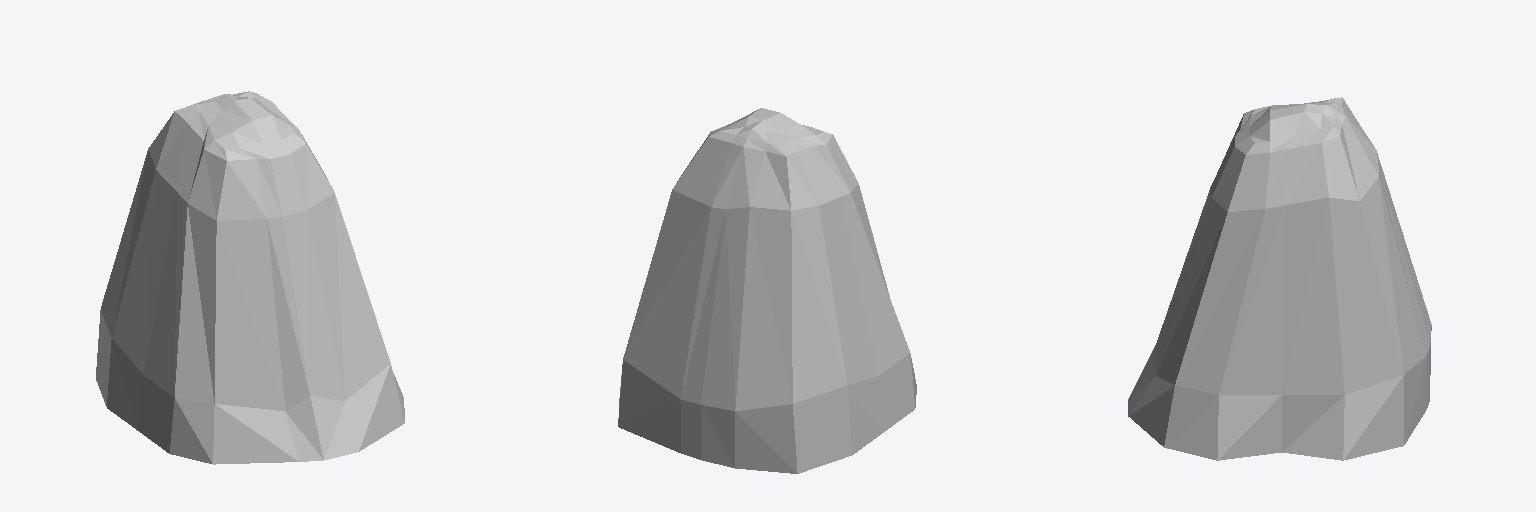
File: Rock4.obj
3 views of the same model, side by side, from view 1: azimuth 30°, elevation 25°; view 2: azimuth 150°, elevation 25°; view 3: azimuth 270°, elevation 25° (orthographic).
Parts seen in each view (by area): view 1: Group2; view 2: Group2; view 3: Group2.
Part boxes in pixels (x1,y1,x2,y2): Group2: (96,91,404,464); Group2: (618,108,916,473); Group2: (1128,97,1431,460).
Size of the model in its own units: 1.13 by 1.36 by 1.27.